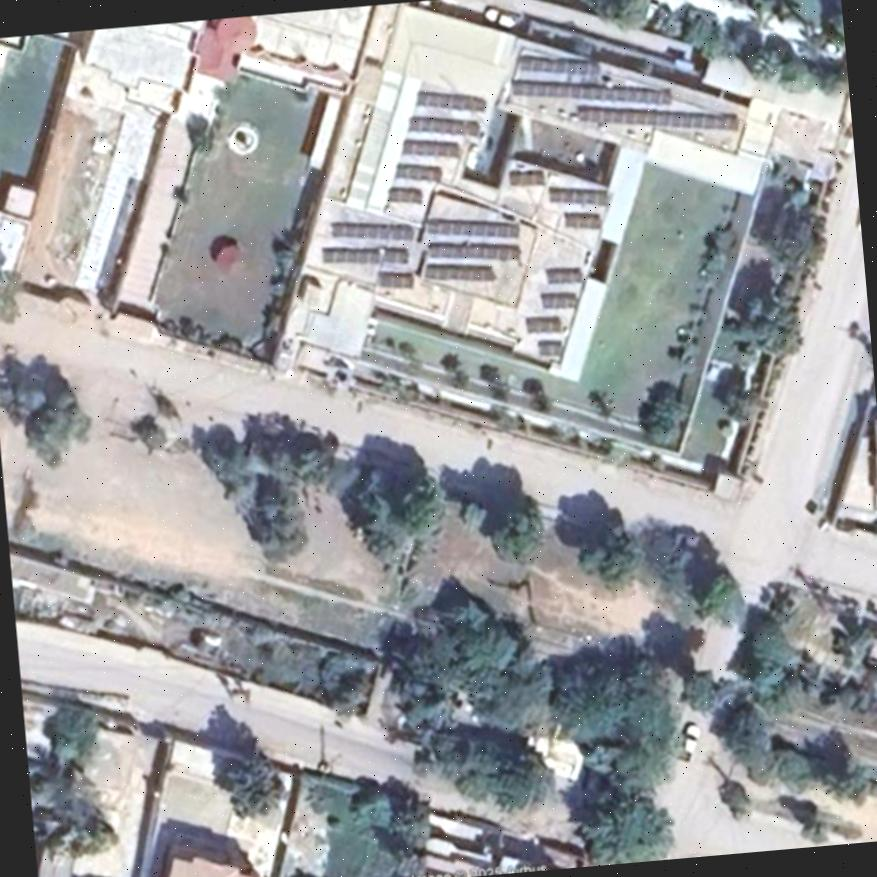Solarpanel: (575, 105, 736, 128), (512, 80, 669, 103), (518, 53, 597, 75), (423, 219, 518, 235), (415, 88, 485, 109), (429, 240, 518, 256), (320, 245, 406, 260), (407, 114, 476, 131), (425, 264, 491, 280), (550, 185, 605, 204), (333, 224, 411, 237), (404, 142, 458, 158), (525, 314, 560, 332), (544, 266, 583, 282), (387, 186, 421, 204), (539, 291, 579, 306), (394, 165, 440, 178), (563, 212, 602, 226), (508, 169, 545, 182), (379, 272, 410, 284), (536, 343, 562, 352)
